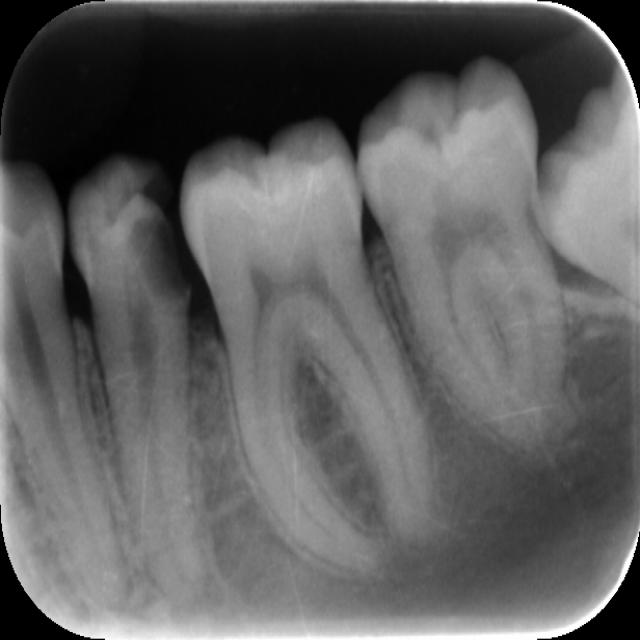Caries: (70, 153, 189, 585)
